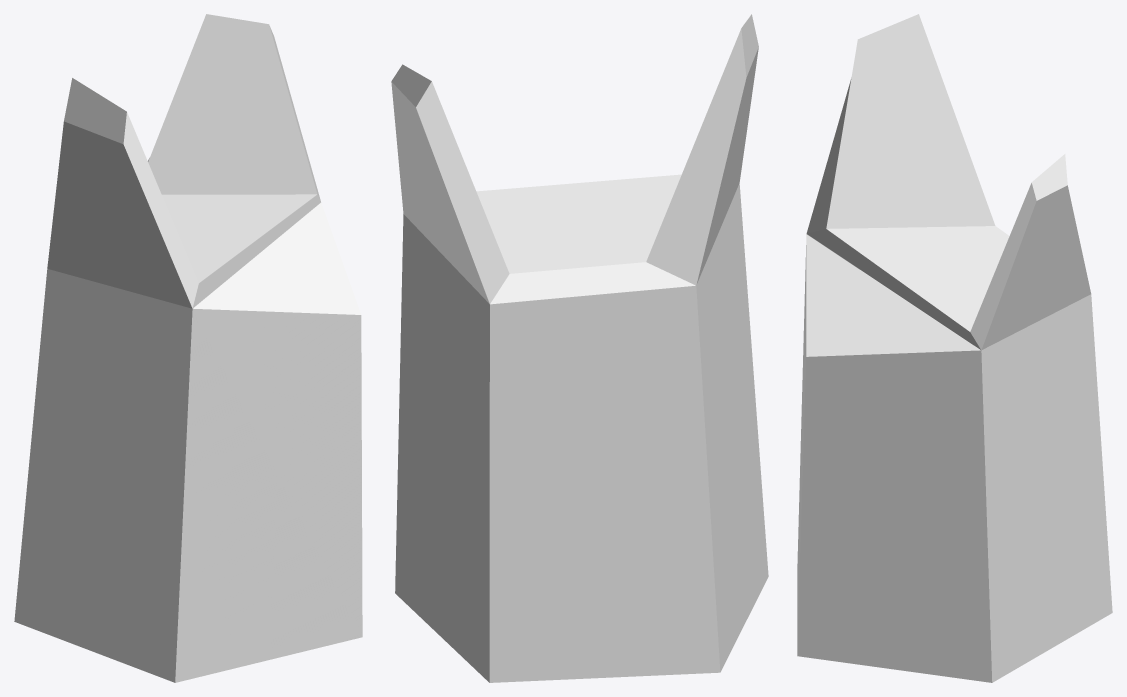
Rendered from tree.sequoia.stump.glb.
The picture shows the model from 3 angles, left to right: view 1: azimuth 30°, elevation 25°; view 2: azimuth 150°, elevation 25°; view 3: azimuth 270°, elevation 25°; orthographic projection. The views are drawn at different scales.
Visible parts, largest first — view 1: sequoia.stump; view 2: sequoia.stump; view 3: sequoia.stump.
Boxes of the visible parts, x1,y1,x2,y2 form: sequoia.stump: (14,14,362,682); sequoia.stump: (391,14,768,682); sequoia.stump: (797,14,1112,682).
Size of the model in its own units: 1.01 by 1.8 by 0.9572.
1 material, 1 textured.
